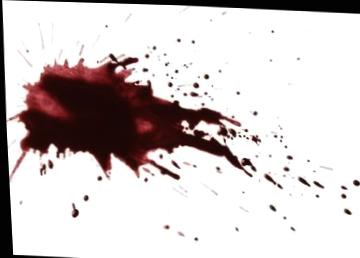Fire: (11, 53, 242, 179), (165, 62, 221, 104), (130, 45, 174, 91), (252, 110, 289, 145), (159, 222, 200, 247), (277, 152, 315, 174), (69, 191, 93, 209), (171, 35, 198, 50), (88, 171, 106, 186), (215, 125, 235, 137), (262, 173, 279, 187), (38, 160, 51, 176), (225, 222, 241, 231), (69, 203, 76, 217), (296, 176, 306, 185), (249, 134, 259, 142), (351, 178, 358, 186), (311, 181, 322, 186), (267, 203, 274, 210), (343, 206, 349, 212), (339, 183, 346, 188), (339, 192, 346, 197), (242, 133, 247, 138), (288, 225, 293, 230), (279, 215, 284, 220), (243, 128, 247, 131)
